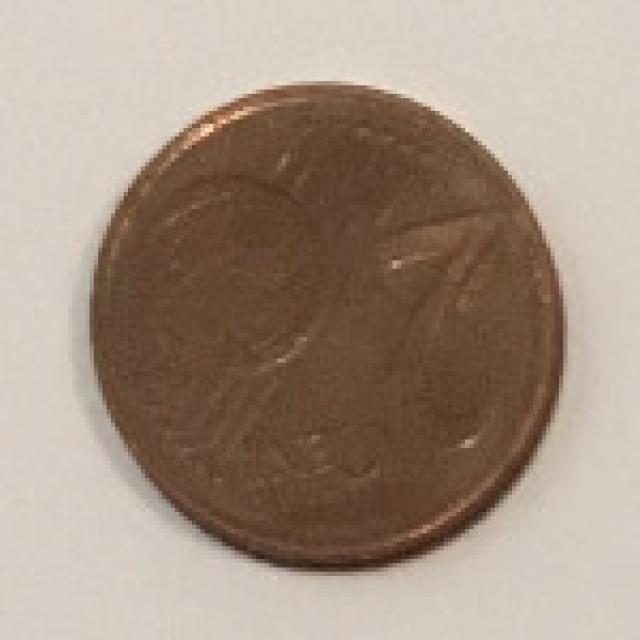2c: (77, 60, 580, 598)
